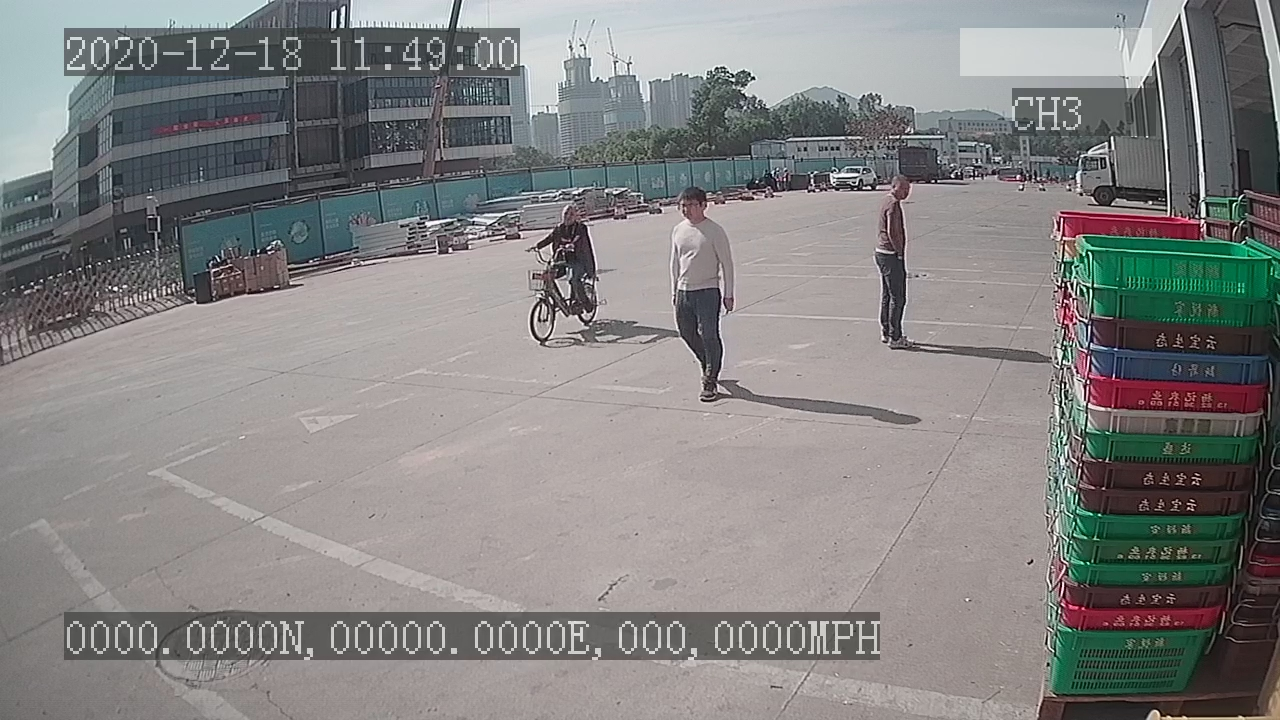person: (663, 181, 740, 406), (870, 170, 920, 354)
